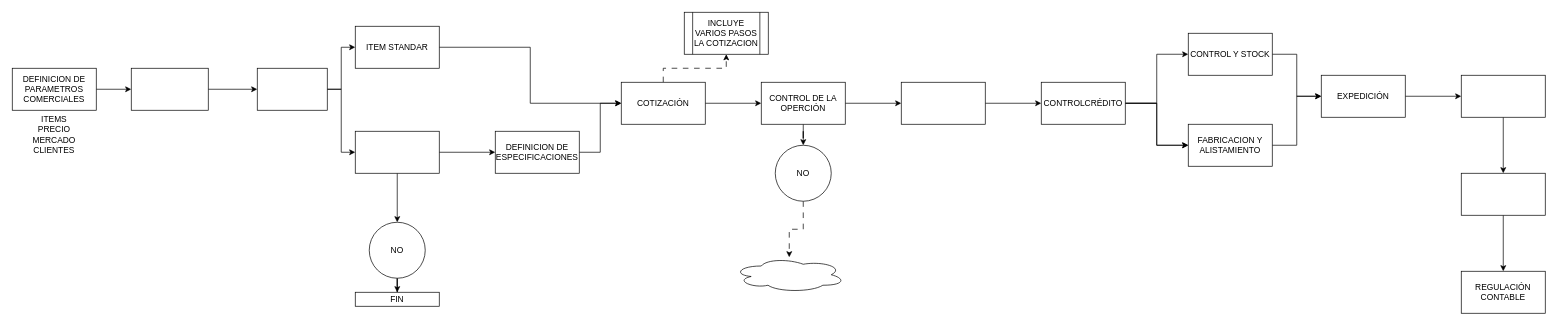
Some shapes in this 1558 by 326 pixel diagram are drawn without their labels. Here are the shapes that lost their labels. From the top down, the box of each, then its label:
(131, 68, 208, 110): CONFECCION DEL PLAN DE ACCION COMERCIAL
(257, 68, 327, 110): VINCULACIÓN CON EL CLIENTE
(901, 82, 985, 124): FORMALIZACIÓN DEL PEDIDO
(1461, 75, 1545, 117): DISTRIBUCIÓN
(355, 131, 439, 173): DEFINICION DE FACTIBILIDAD DEL PEDIDO
(1461, 173, 1545, 215): CONTROL DE RECEPCIÓN
(733, 257, 845, 292): NO NOS INTERESA
